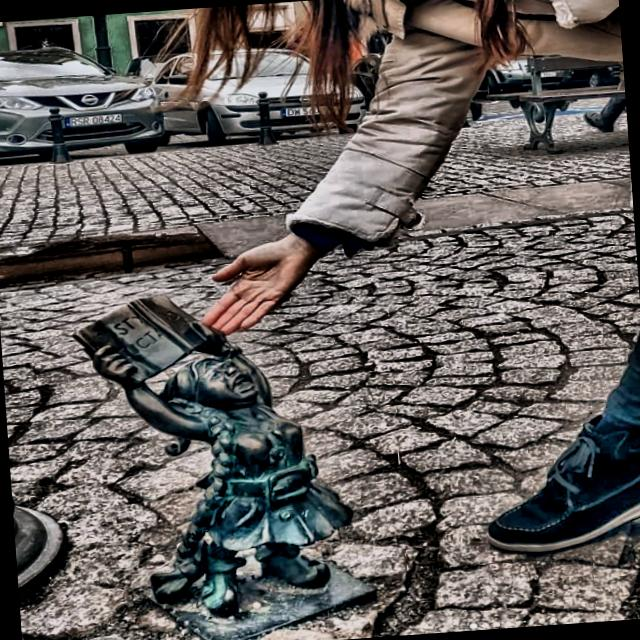Demokracja: (71, 294, 353, 616)
